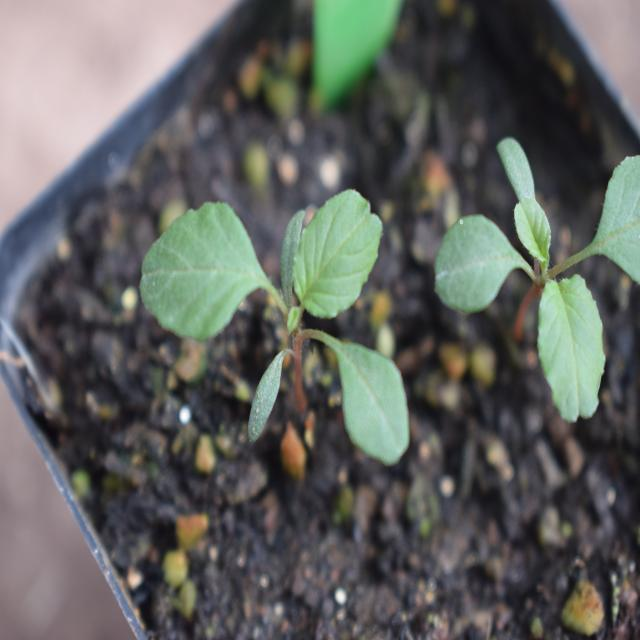pigweed: (134, 162, 408, 470), (425, 137, 640, 434)
